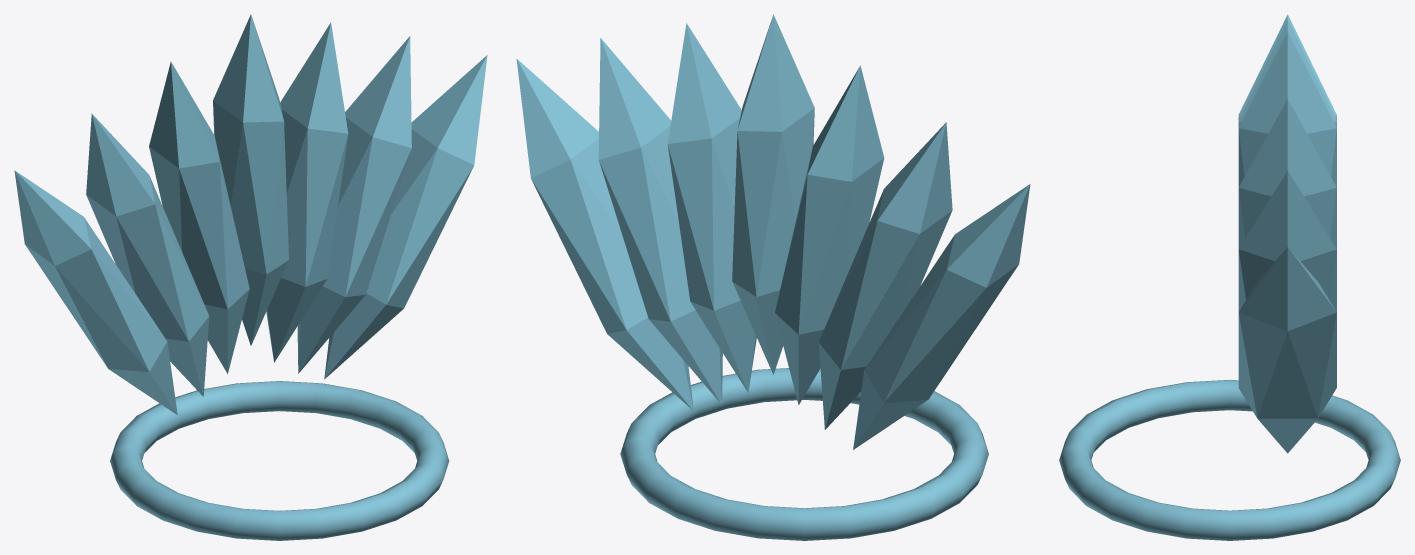
The model's file is FrostCrown.fbx.
The picture shows the model from 3 angles, left to right: view 1: azimuth 30°, elevation 25°; view 2: azimuth 150°, elevation 25°; view 3: azimuth 270°, elevation 25°; orthographic projection. The views are drawn at different scales.
Visible parts, largest first — view 1: Crown circlet.002_export, Royal ice blade.006_export, Royal ice blade.005_export, Royal ice blade.003_export, Royal ice blade.002_export, Royal ice blade.004_export, Royal ice blade_export, Royal ice blade.001_export; view 2: Crown circlet.002_export, Royal ice blade.006_export, Royal ice blade.005_export, Royal ice blade.003_export, Royal ice blade.002_export, Royal ice blade.004_export, Royal ice blade_export, Royal ice blade.001_export; view 3: Crown circlet.002_export, Royal ice blade.006_export, Royal ice blade.004_export, Royal ice blade.005_export, Royal ice blade.003_export, Royal ice blade.002_export, Royal ice blade.001_export.
Boxes of the visible parts, box(x1,y1,x2,y2) form: Crown circlet.002_export: box(110, 381, 449, 540); Royal ice blade.006_export: box(324, 55, 487, 379); Royal ice blade.005_export: box(297, 36, 411, 373); Royal ice blade.003_export: box(213, 14, 288, 345); Royal ice blade.002_export: box(149, 62, 249, 373); Royal ice blade.004_export: box(266, 22, 348, 362); Royal ice blade_export: box(14, 170, 177, 414); Royal ice blade.001_export: box(86, 113, 209, 396); Crown circlet.002_export: box(620, 368, 988, 540); Royal ice blade.006_export: box(516, 58, 693, 410); Royal ice blade.005_export: box(598, 38, 722, 404); Royal ice blade.003_export: box(732, 14, 814, 374); Royal ice blade.002_export: box(775, 65, 884, 404); Royal ice blade.004_export: box(667, 23, 756, 392); Royal ice blade_export: box(853, 184, 1030, 449); Royal ice blade.001_export: box(818, 122, 952, 429); Crown circlet.002_export: box(1059, 380, 1400, 540); Royal ice blade.006_export: box(1238, 247, 1336, 453); Royal ice blade.004_export: box(1238, 99, 1336, 248); Royal ice blade.005_export: box(1238, 171, 1336, 311); Royal ice blade.003_export: box(1238, 31, 1336, 187); Royal ice blade.002_export: box(1238, 20, 1336, 127); Royal ice blade.001_export: box(1238, 14, 1336, 120).
Size of the model in its own units: 238 by 212 by 148.
